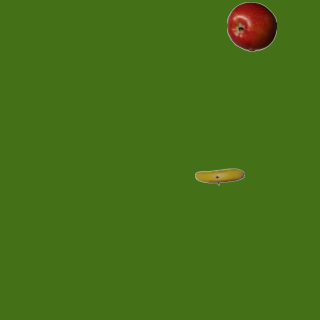Apple Braeburn: (226, 1, 276, 51)
Banana: (194, 151, 244, 201)
